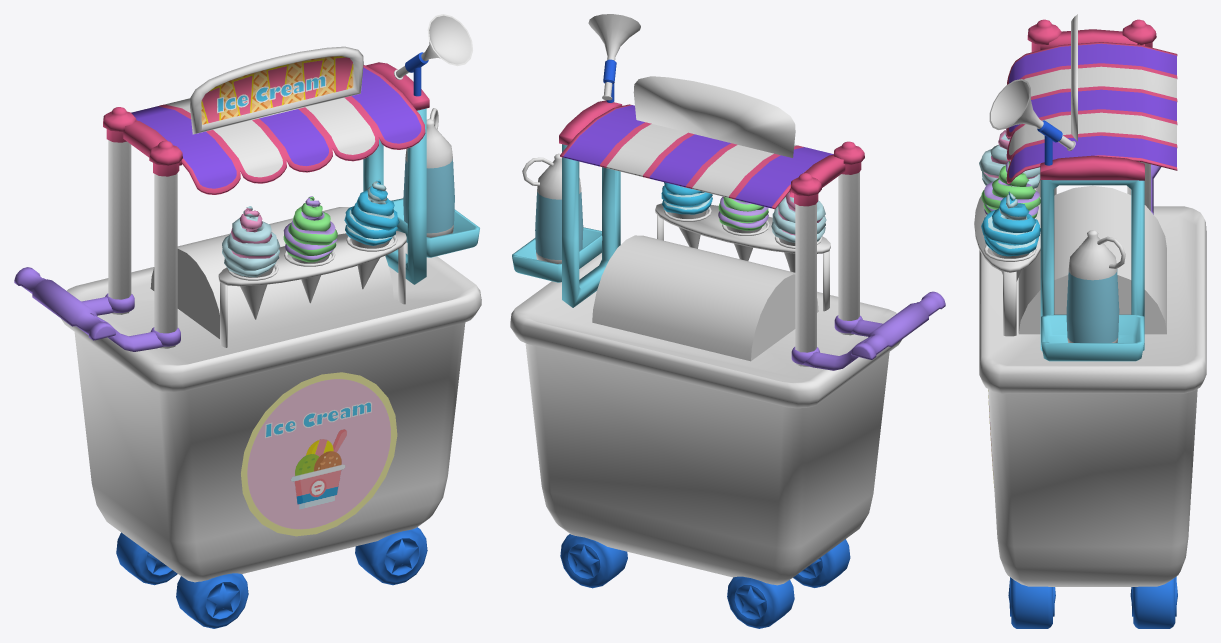
File: nice cream truck.fbx
3 views of the same model, side by side, from view 1: azimuth 30°, elevation 25°; view 2: azimuth 150°, elevation 25°; view 3: azimuth 270°, elevation 25° (orthographic). The views are drawn at different scales.
Parts seen in each view (by area): view 1: down truck, top truck, logo, glass, wheels, holder, pink ice cream, bottle, blue ice cream, green ice cream, speaker; view 2: down truck, top truck, glass, wheels, holder, bottle, speaker, blue ice cream, green ice cream, pink ice cream; view 3: down truck, top truck, glass, bottle, wheels, blue ice cream, speaker, holder, green ice cream, pink ice cream.
Part boxes in pixels (bbox=[...]): down truck: bbox=[61, 242, 481, 582]; top truck: bbox=[14, 46, 479, 351]; logo: bbox=[241, 372, 397, 536]; glass: bbox=[150, 207, 393, 340]; wheels: bbox=[116, 527, 427, 628]; holder: bbox=[218, 231, 406, 347]; pink ice cream: bbox=[222, 206, 280, 319]; bottle: bbox=[403, 108, 454, 237]; blue ice cream: bbox=[344, 179, 399, 289]; green ice cream: bbox=[283, 196, 337, 303]; speaker: bbox=[394, 14, 472, 96]; down truck: bbox=[510, 253, 901, 585]; top truck: bbox=[512, 76, 945, 370]; glass: bbox=[592, 235, 818, 361]; wheels: bbox=[560, 534, 850, 628]; holder: bbox=[655, 203, 830, 311]; bottle: bbox=[522, 153, 583, 263]; speaker: bbox=[588, 14, 640, 102]; blue ice cream: bbox=[661, 182, 712, 248]; green ice cream: bbox=[718, 196, 768, 260]; pink ice cream: bbox=[771, 192, 826, 272]; down truck: bbox=[979, 206, 1206, 586]; top truck: bbox=[1006, 14, 1177, 361]; glass: bbox=[1018, 185, 1166, 334]; bottle: bbox=[1066, 230, 1125, 342]; wheels: bbox=[1008, 576, 1177, 628]; blue ice cream: bbox=[981, 191, 1040, 281]; speaker: bbox=[989, 79, 1075, 165]; holder: bbox=[974, 188, 1040, 336]; green ice cream: bbox=[981, 160, 1040, 218]; pink ice cream: bbox=[979, 128, 1040, 188].
Size of the model in its own units: 4.13 by 5.4 by 2.01.
